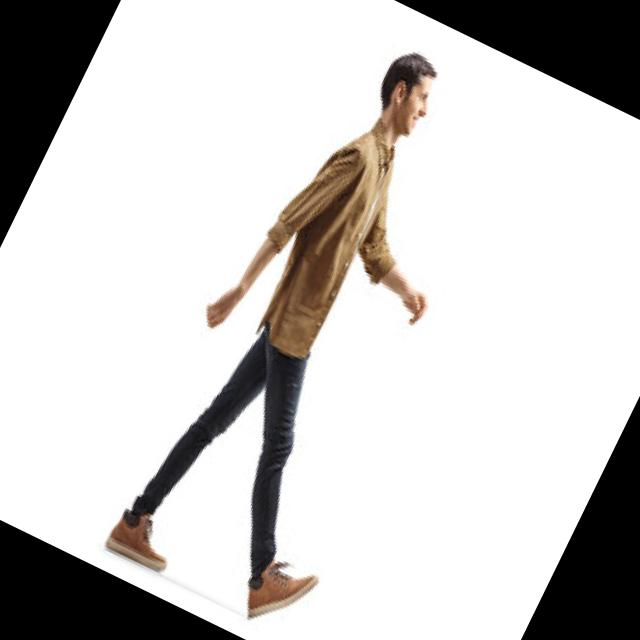Person: (92, 17, 545, 638)
